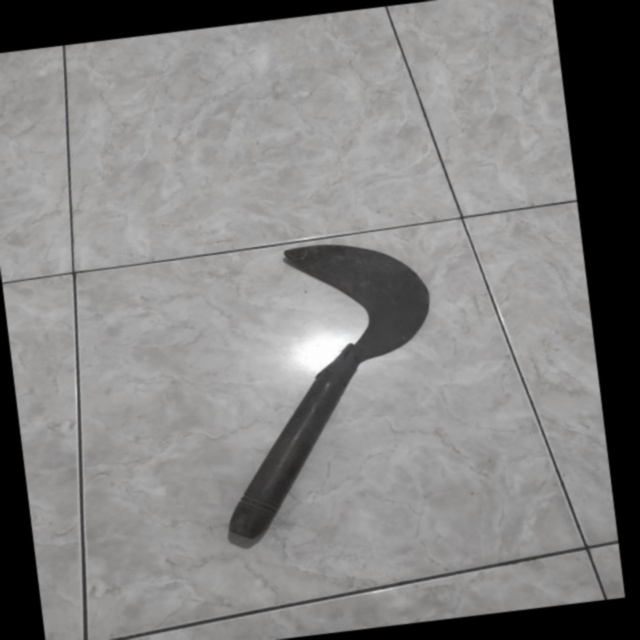Sharp-Object: (199, 223, 475, 558)
